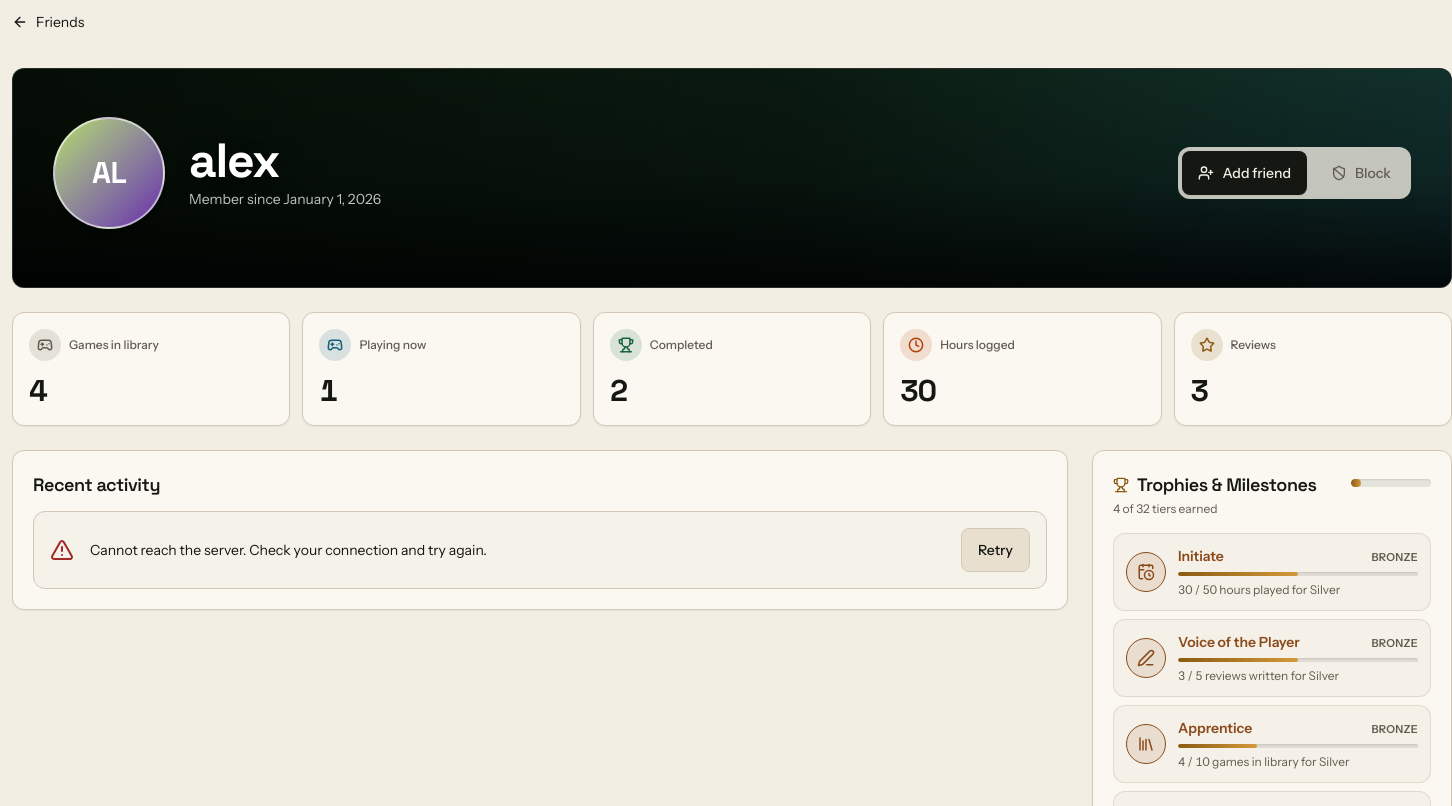
Test: UserProfile › keeps the page up when only the activity section fails
Expected: the heading "alex" is shown, [189,130,279,191]
Expected: the message "Cannot reach the server. Check your connection and try again. Retry" is shown, [33,511,1047,589]
Click the button "Retry" at (996, 550), box [961,528,1030,572]
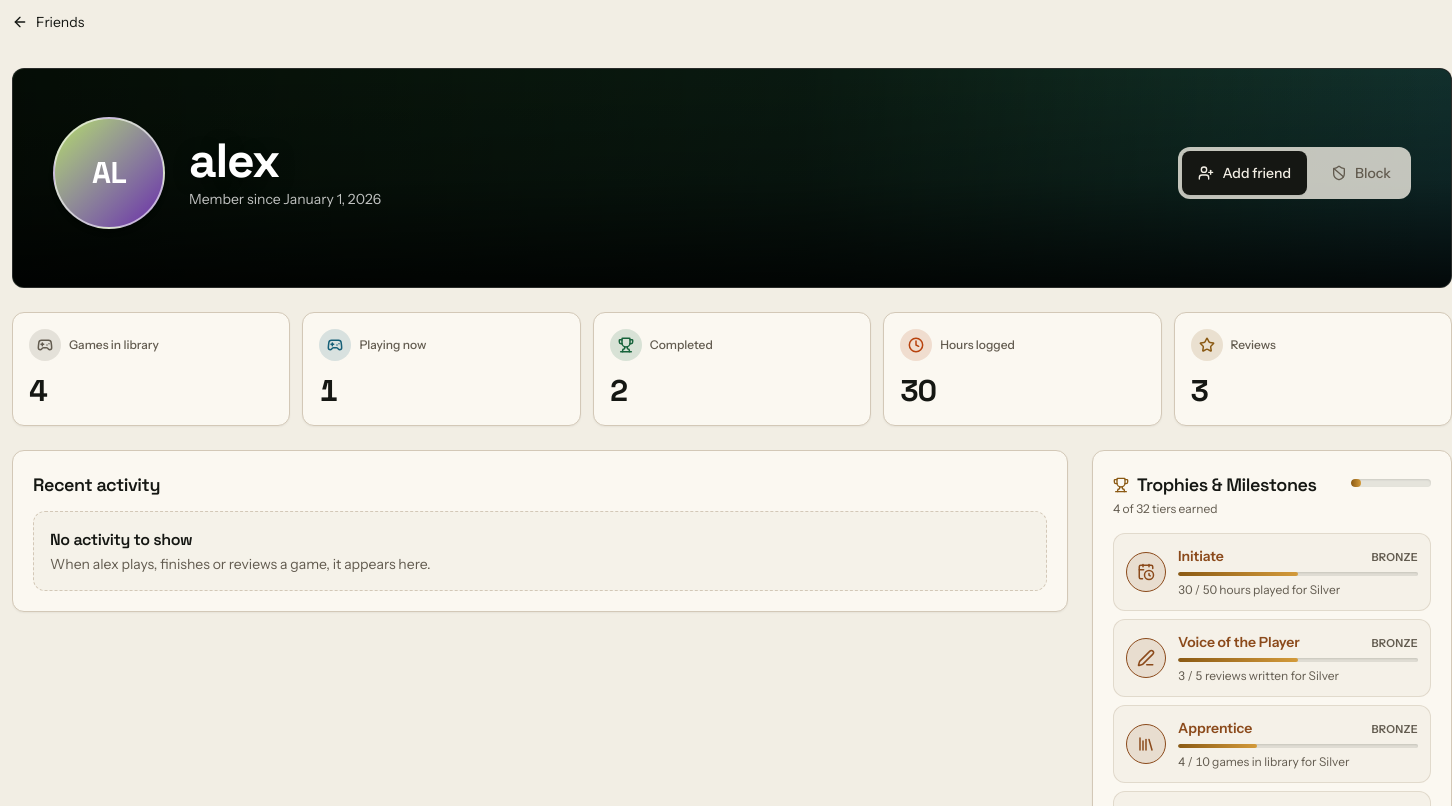
Expected: the heading "No activity to show" is shown, [50,529,192,550]
